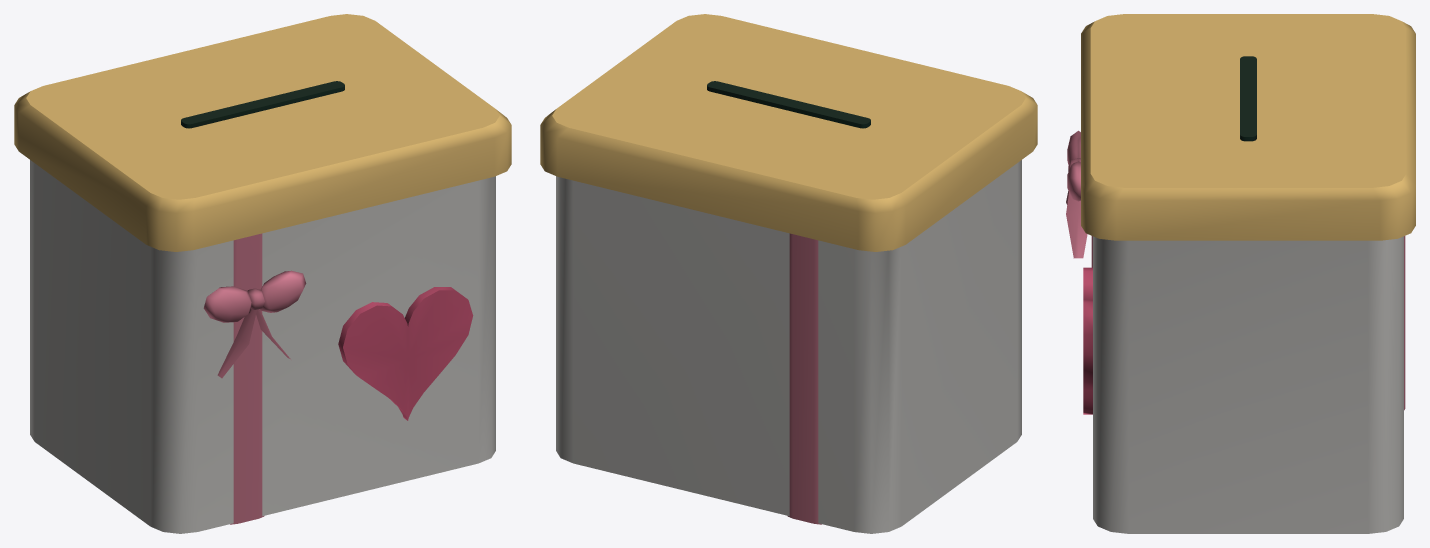
File: thung-tien-mung.glb
The picture shows the model from 3 angles, left to right: view 1: azimuth 30°, elevation 25°; view 2: azimuth 150°, elevation 25°; view 3: azimuth 270°, elevation 25°; orthographic projection. The views are drawn at different scales.
Parts seen in each view (by area): view 1: thung-tien-mung; view 2: thung-tien-mung; view 3: thung-tien-mung.
Part boxes in pixels (x1,y1,x2,y2): thung-tien-mung: (14,14,511,533); thung-tien-mung: (540,14,1037,533); thung-tien-mung: (1066,14,1415,533).
Bounding box in the file's own units: 0.36 × 0.325 × 0.2925.
